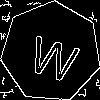W: (26, 26, 84, 84)
